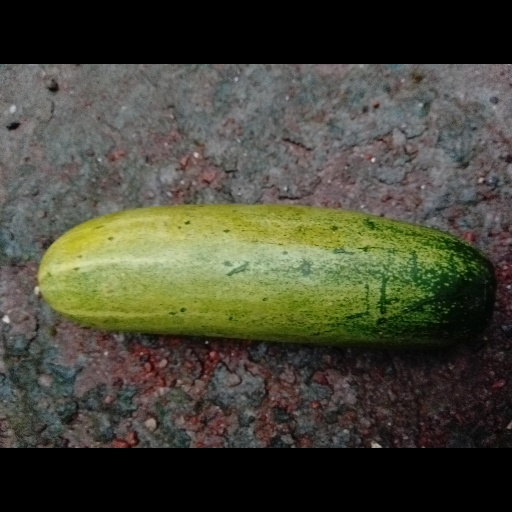concombre: (37, 203, 496, 351)
